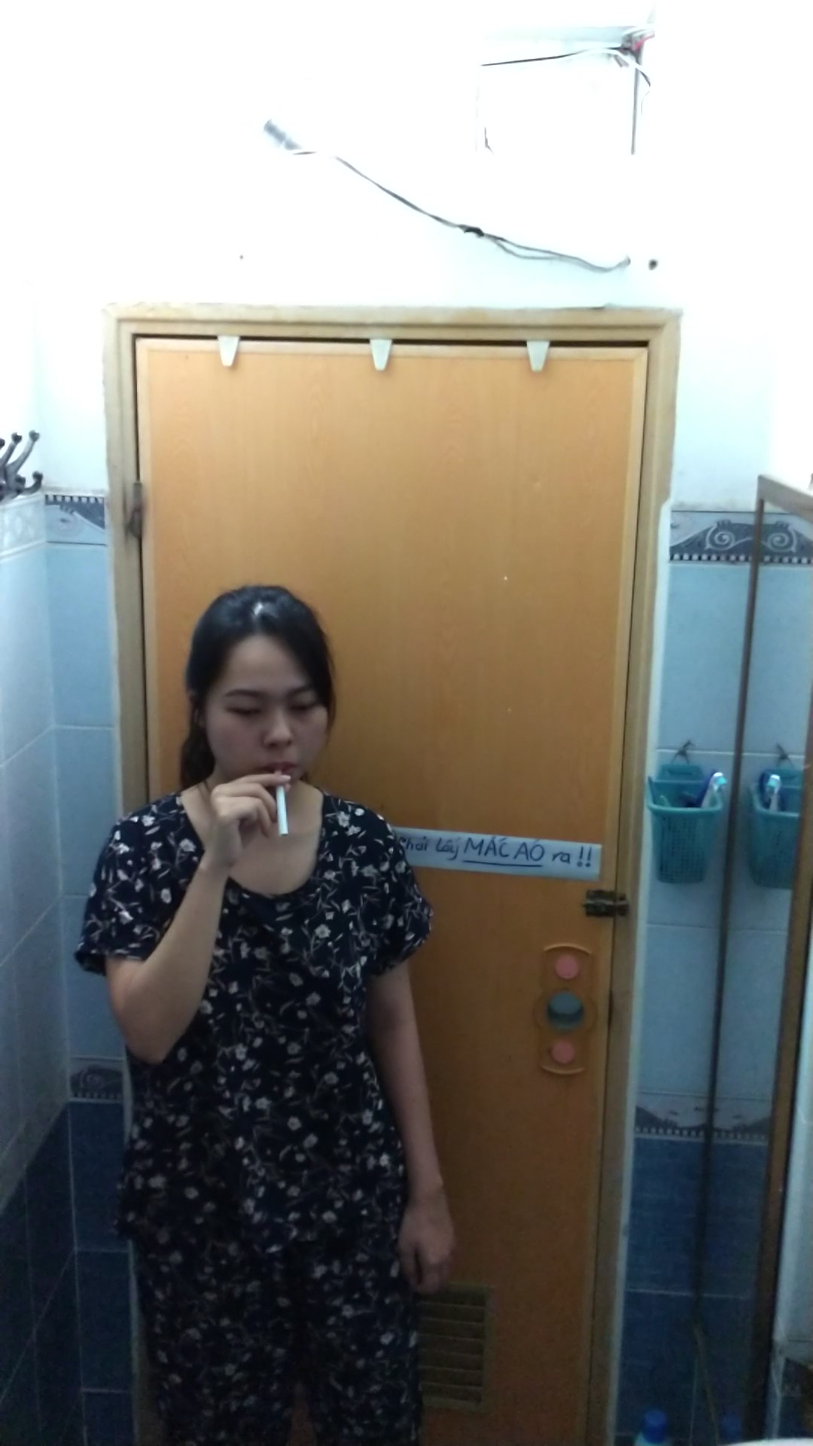cigarette: (271, 784, 290, 842)
person: (73, 583, 476, 1446)
